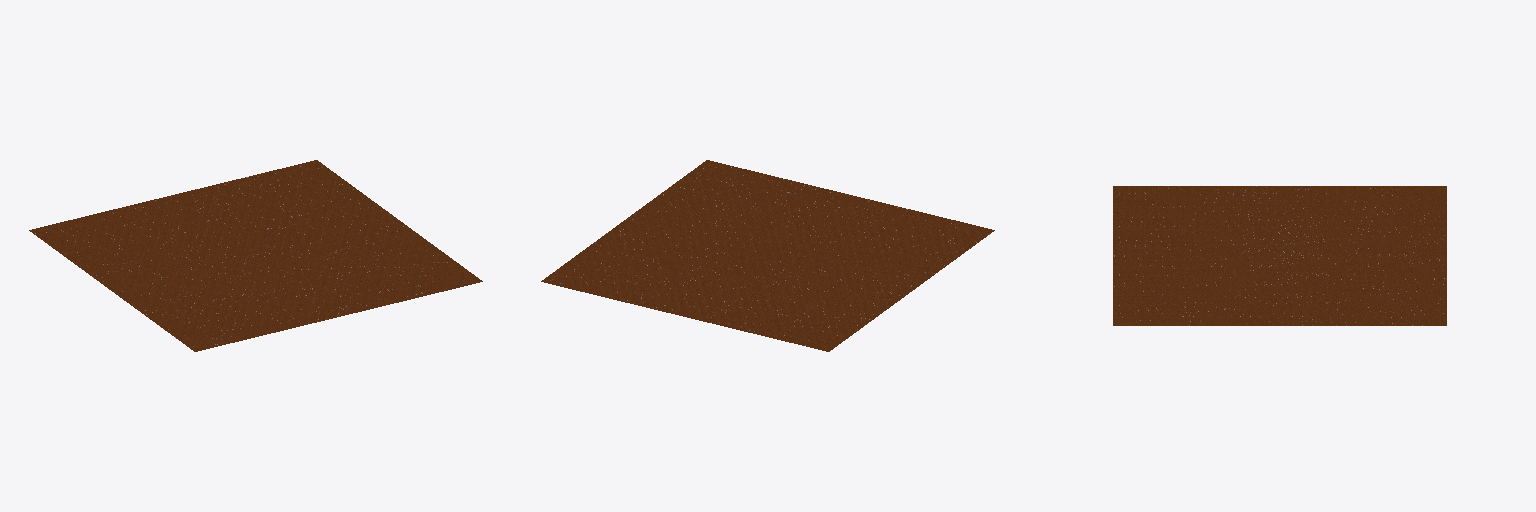
The picture shows the model from 3 angles: view 1: azimuth 30°, elevation 25°; view 2: azimuth 150°, elevation 25°; view 3: azimuth 270°, elevation 25°; orthographic projection.
Parts seen in each view (by area): view 1: 平面; view 2: 平面; view 3: 平面.
Boxes of the visible parts, x1,y1,x2,y2 form: 平面: [29, 160, 482, 351]; 平面: [541, 160, 994, 351]; 平面: [1113, 186, 1446, 325].
Size of the model in its own units: 2000 by 0.0002 by 2000.
Materials: 1 (1 with a texture image).